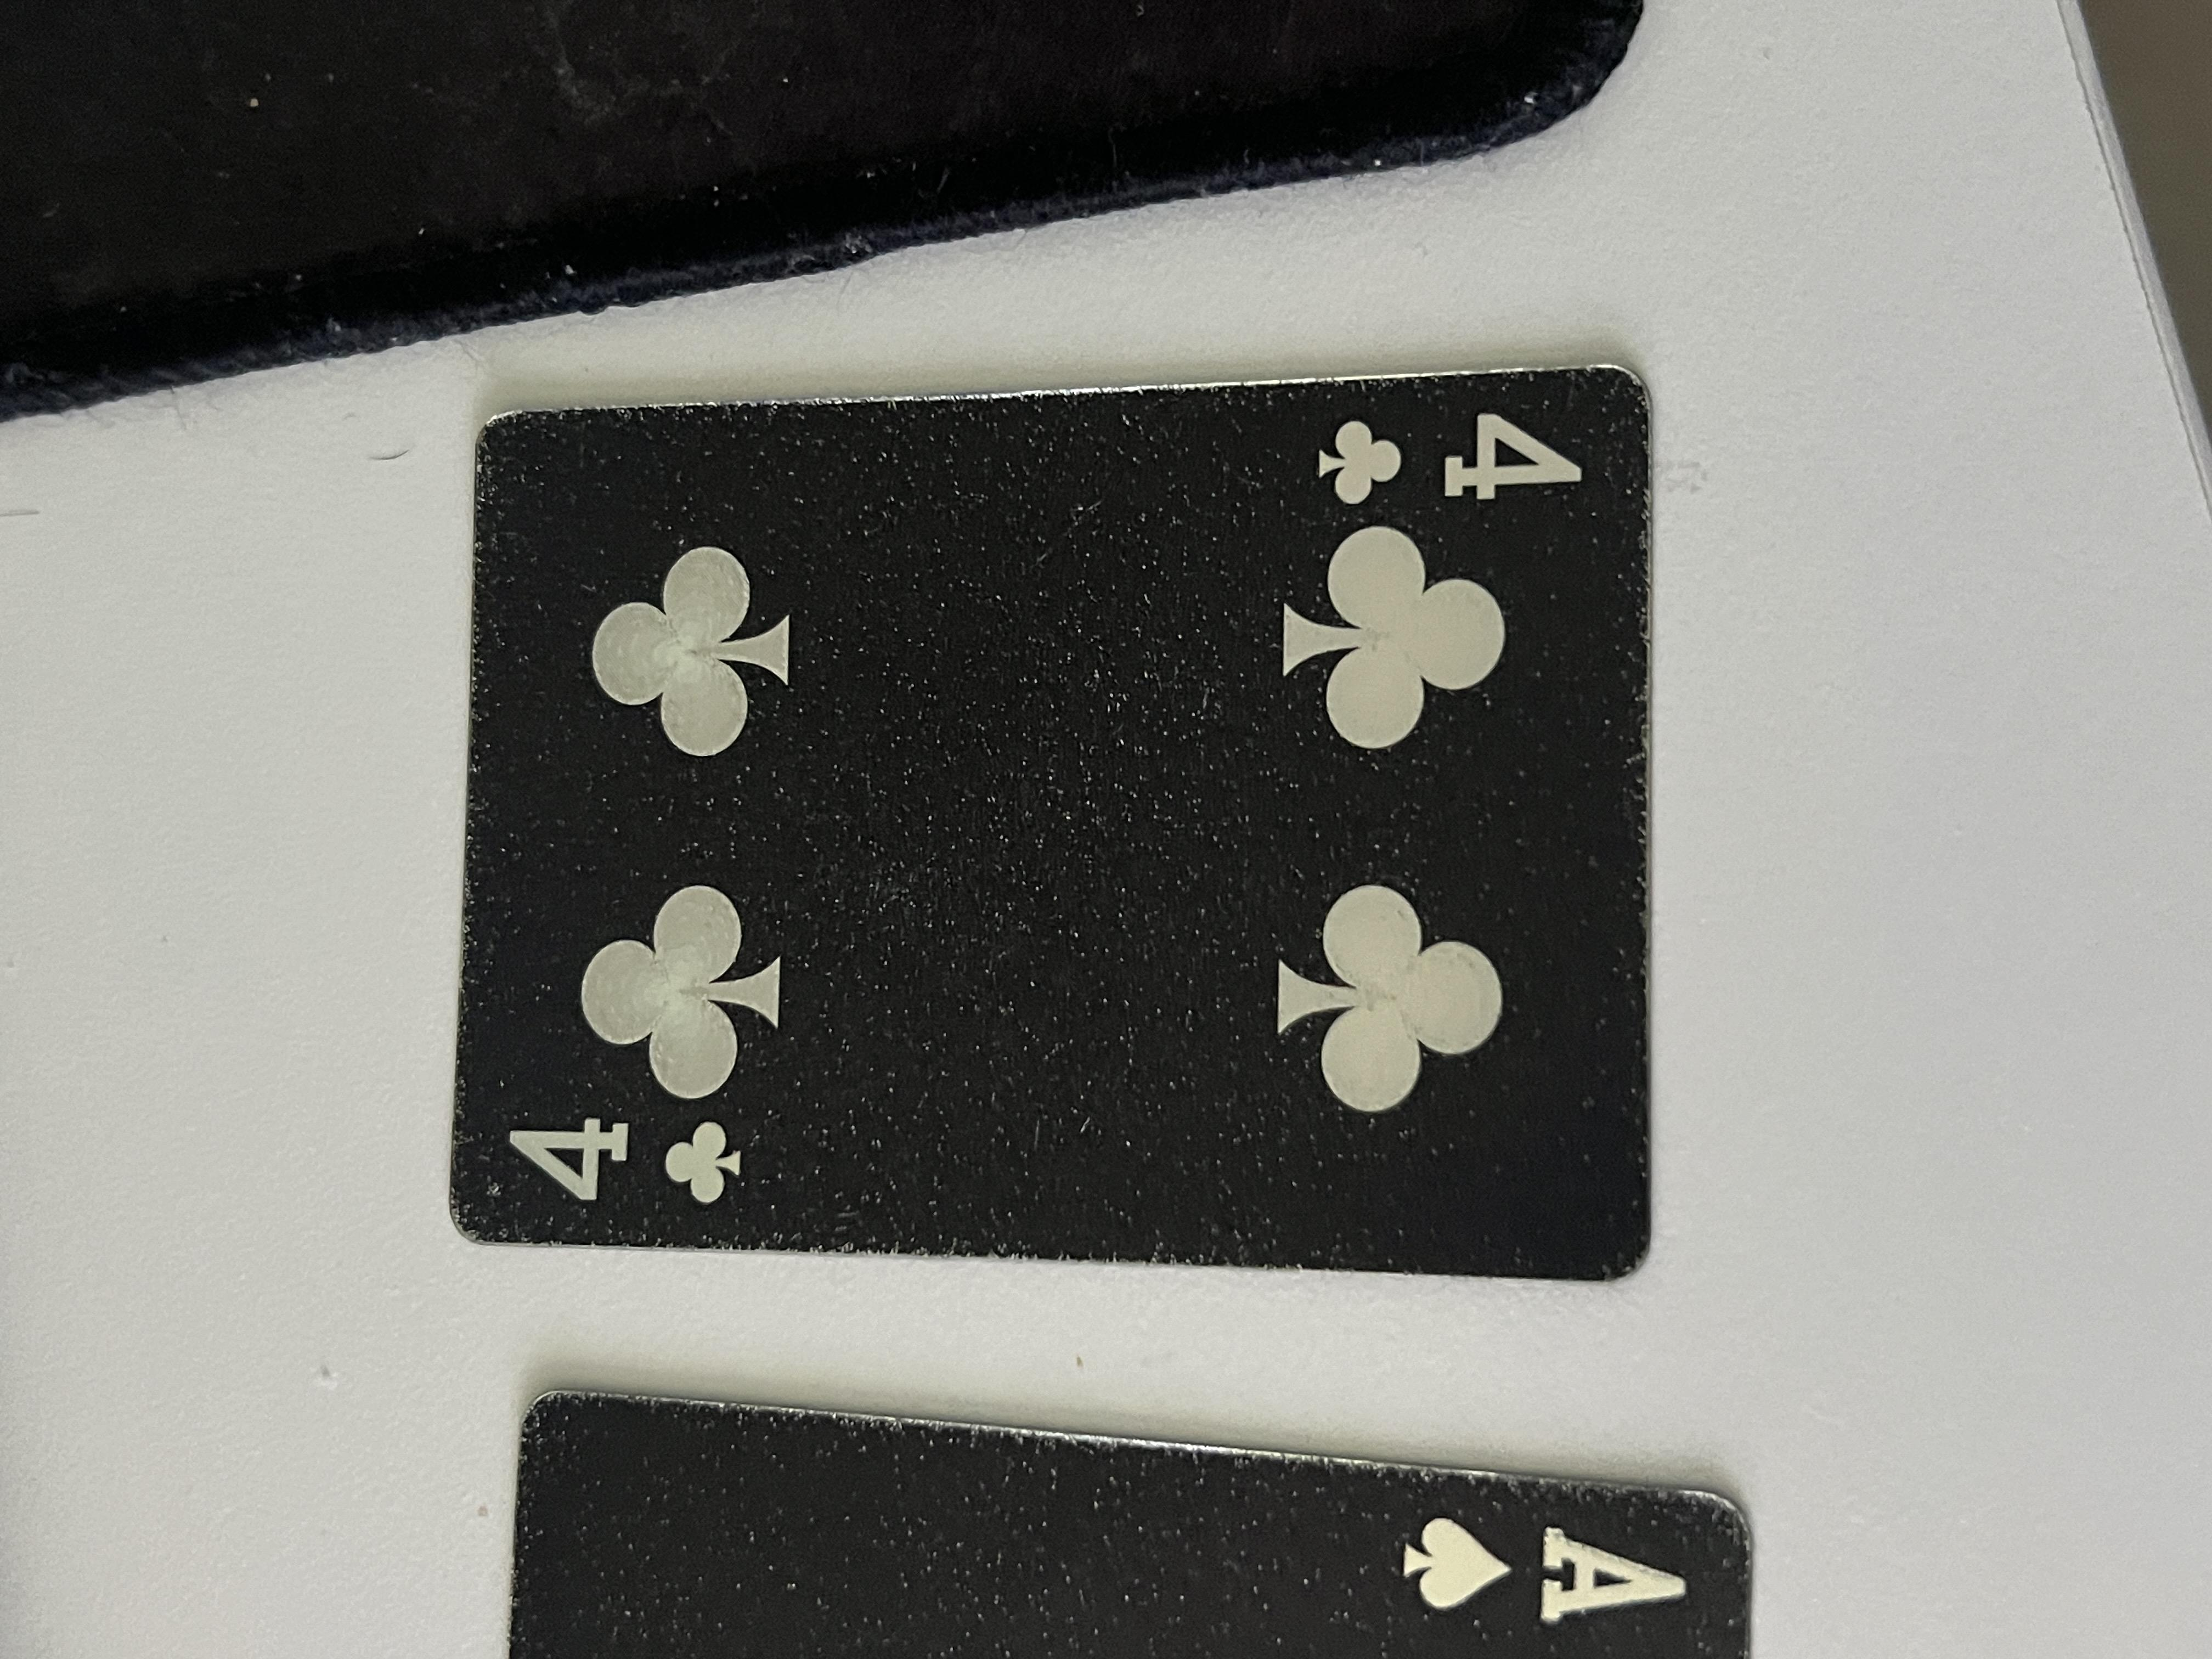4C: (590, 359, 742, 572), (1531, 972, 1670, 1194)
AS: (47, 1040, 206, 1279)
